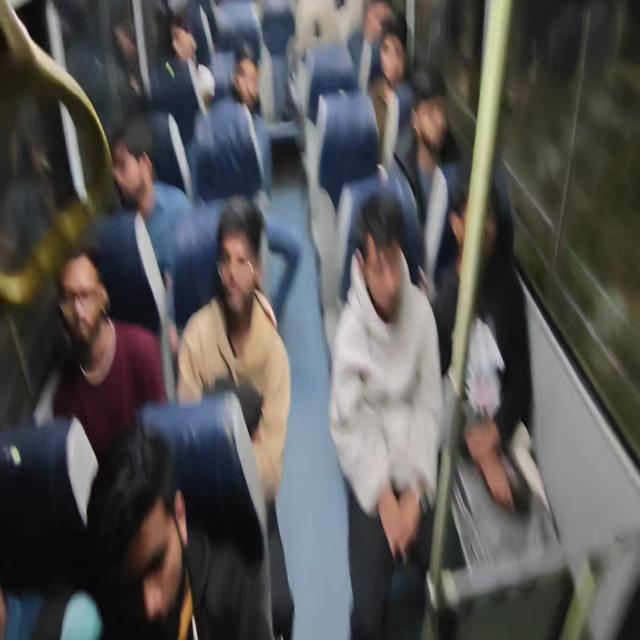person: (91, 425, 236, 640), (49, 220, 131, 404), (368, 204, 433, 394), (199, 192, 278, 342), (103, 124, 177, 228), (445, 175, 501, 298), (416, 82, 467, 210), (0, 452, 28, 639), (160, 7, 216, 90), (222, 50, 266, 134), (379, 26, 408, 105), (365, 0, 413, 42)
